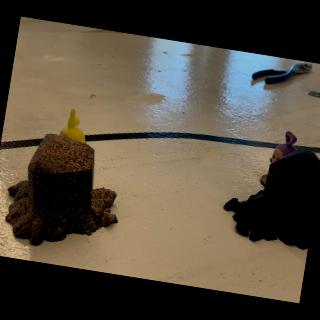teletubby: (59, 109, 87, 144), (270, 131, 297, 163)
